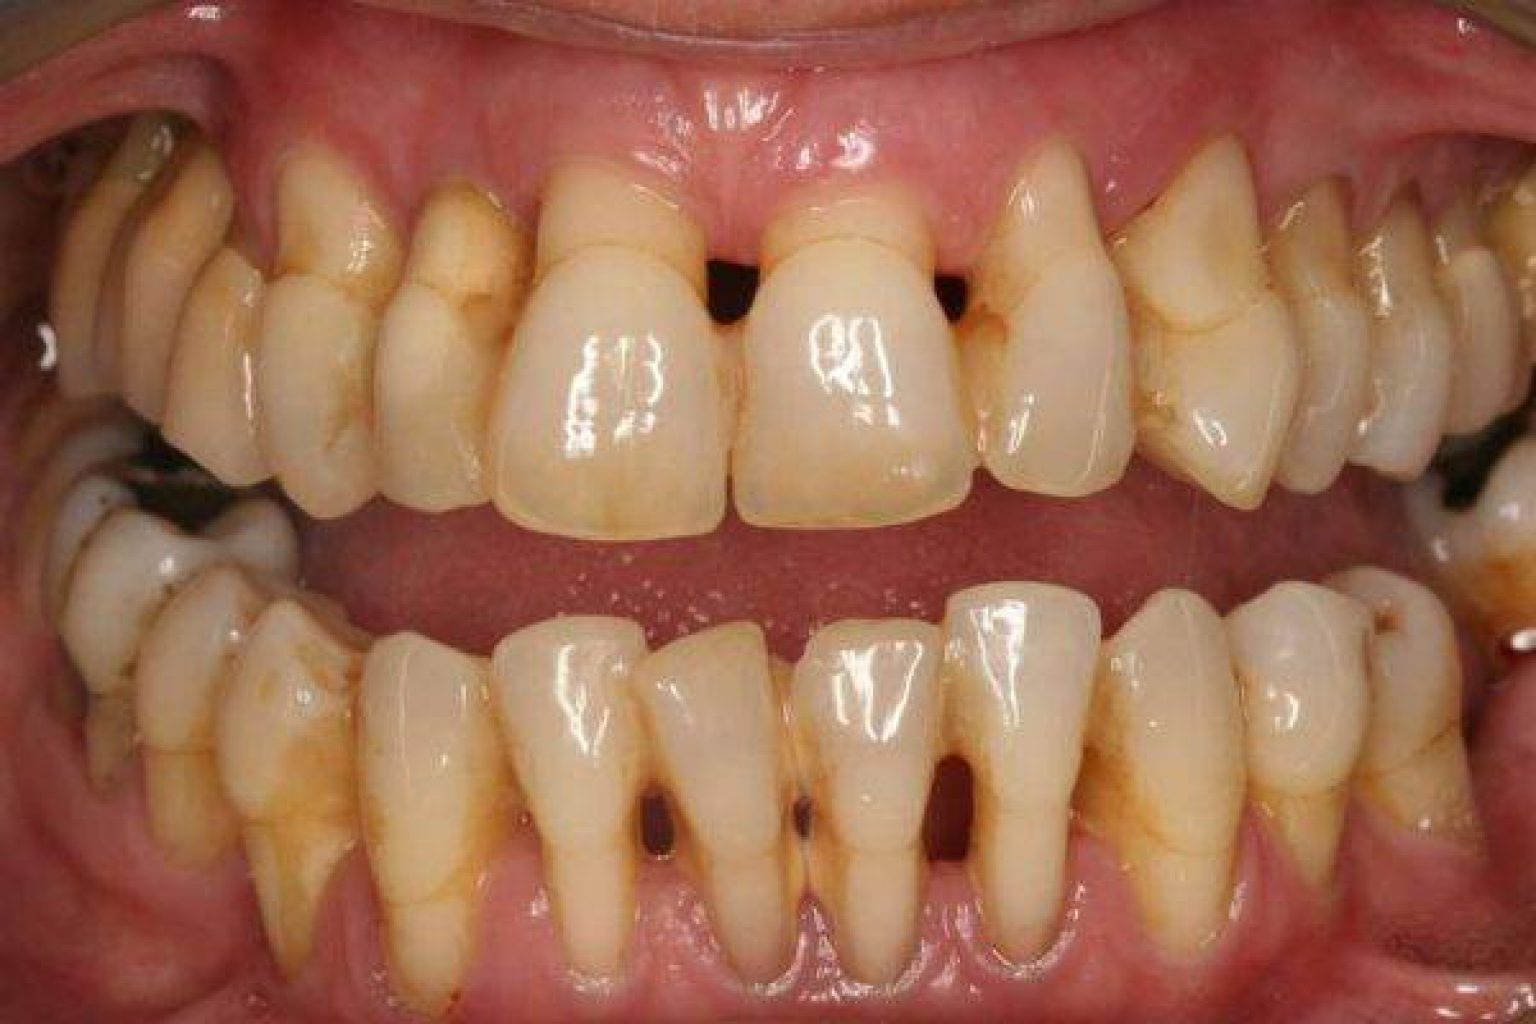LL1BC_decay: (1226, 579, 1375, 912)
LL2BC_decay: (1355, 557, 1486, 870)
LLCI_decay: (785, 614, 946, 997)
LLC_decay: (1090, 582, 1248, 959)
LLLI_decay: (936, 569, 1101, 982)
LR1BC_healthy: (229, 607, 365, 975)
LR1M_decay: (50, 462, 301, 602)
LR2BC_healthy: (139, 569, 246, 862)
LRCI_decay: (629, 614, 815, 981)
LRC_healthy: (341, 627, 515, 1005)
LRLI_healthy: (498, 615, 661, 984)
UL1BC_healthy: (1273, 166, 1376, 507)
UL1M_healthy: (1445, 216, 1531, 434)
UL2BC_healthy: (1363, 199, 1453, 485)
ULCI_healthy: (735, 178, 976, 534)
ULC_healthy: (1120, 139, 1303, 512)
ULLI_healthy: (955, 149, 1146, 507)
UR1BC_healthy: (166, 246, 265, 489)
UR2BC_healthy: (101, 151, 235, 427)
URCI_healthy: (501, 161, 735, 535)
URC_decay: (256, 154, 381, 529)
URLI_healthy: (376, 187, 511, 515)
